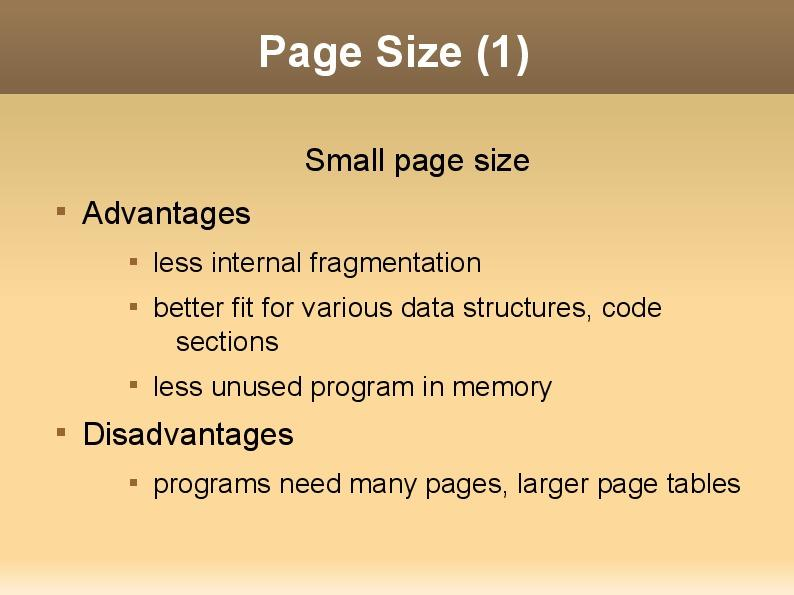paragraph: (37, 176, 764, 538)
subtitle: (289, 137, 544, 192)
title: (245, 24, 547, 91)
